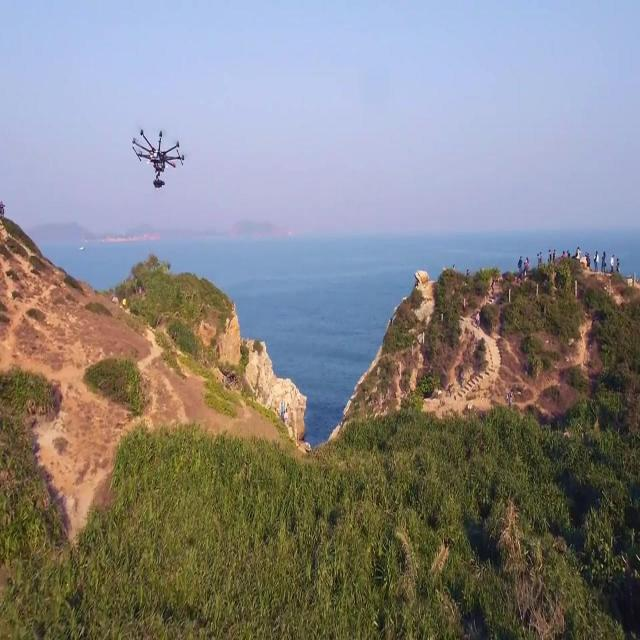UAV: (132, 129, 184, 188)
